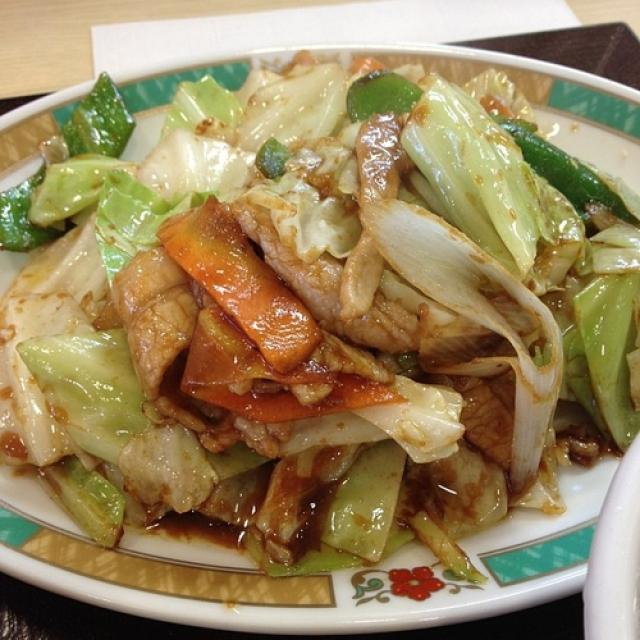猪肉菜式: (22, 66, 626, 578)
